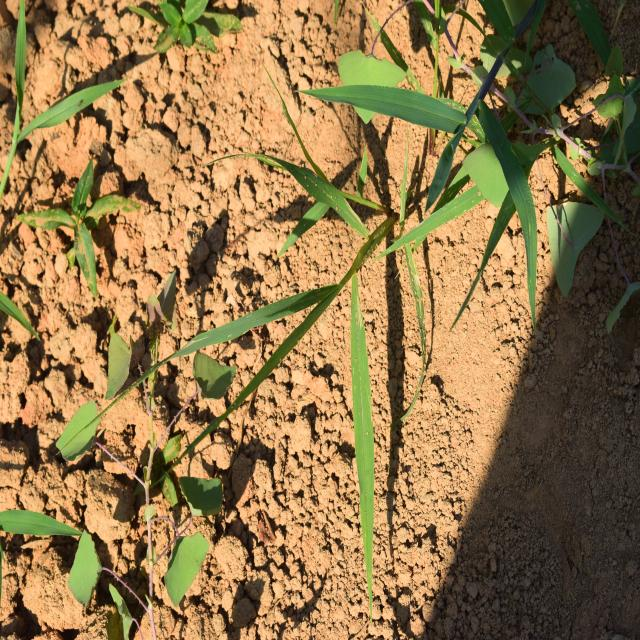green_foxtail: (187, 170, 444, 546)
